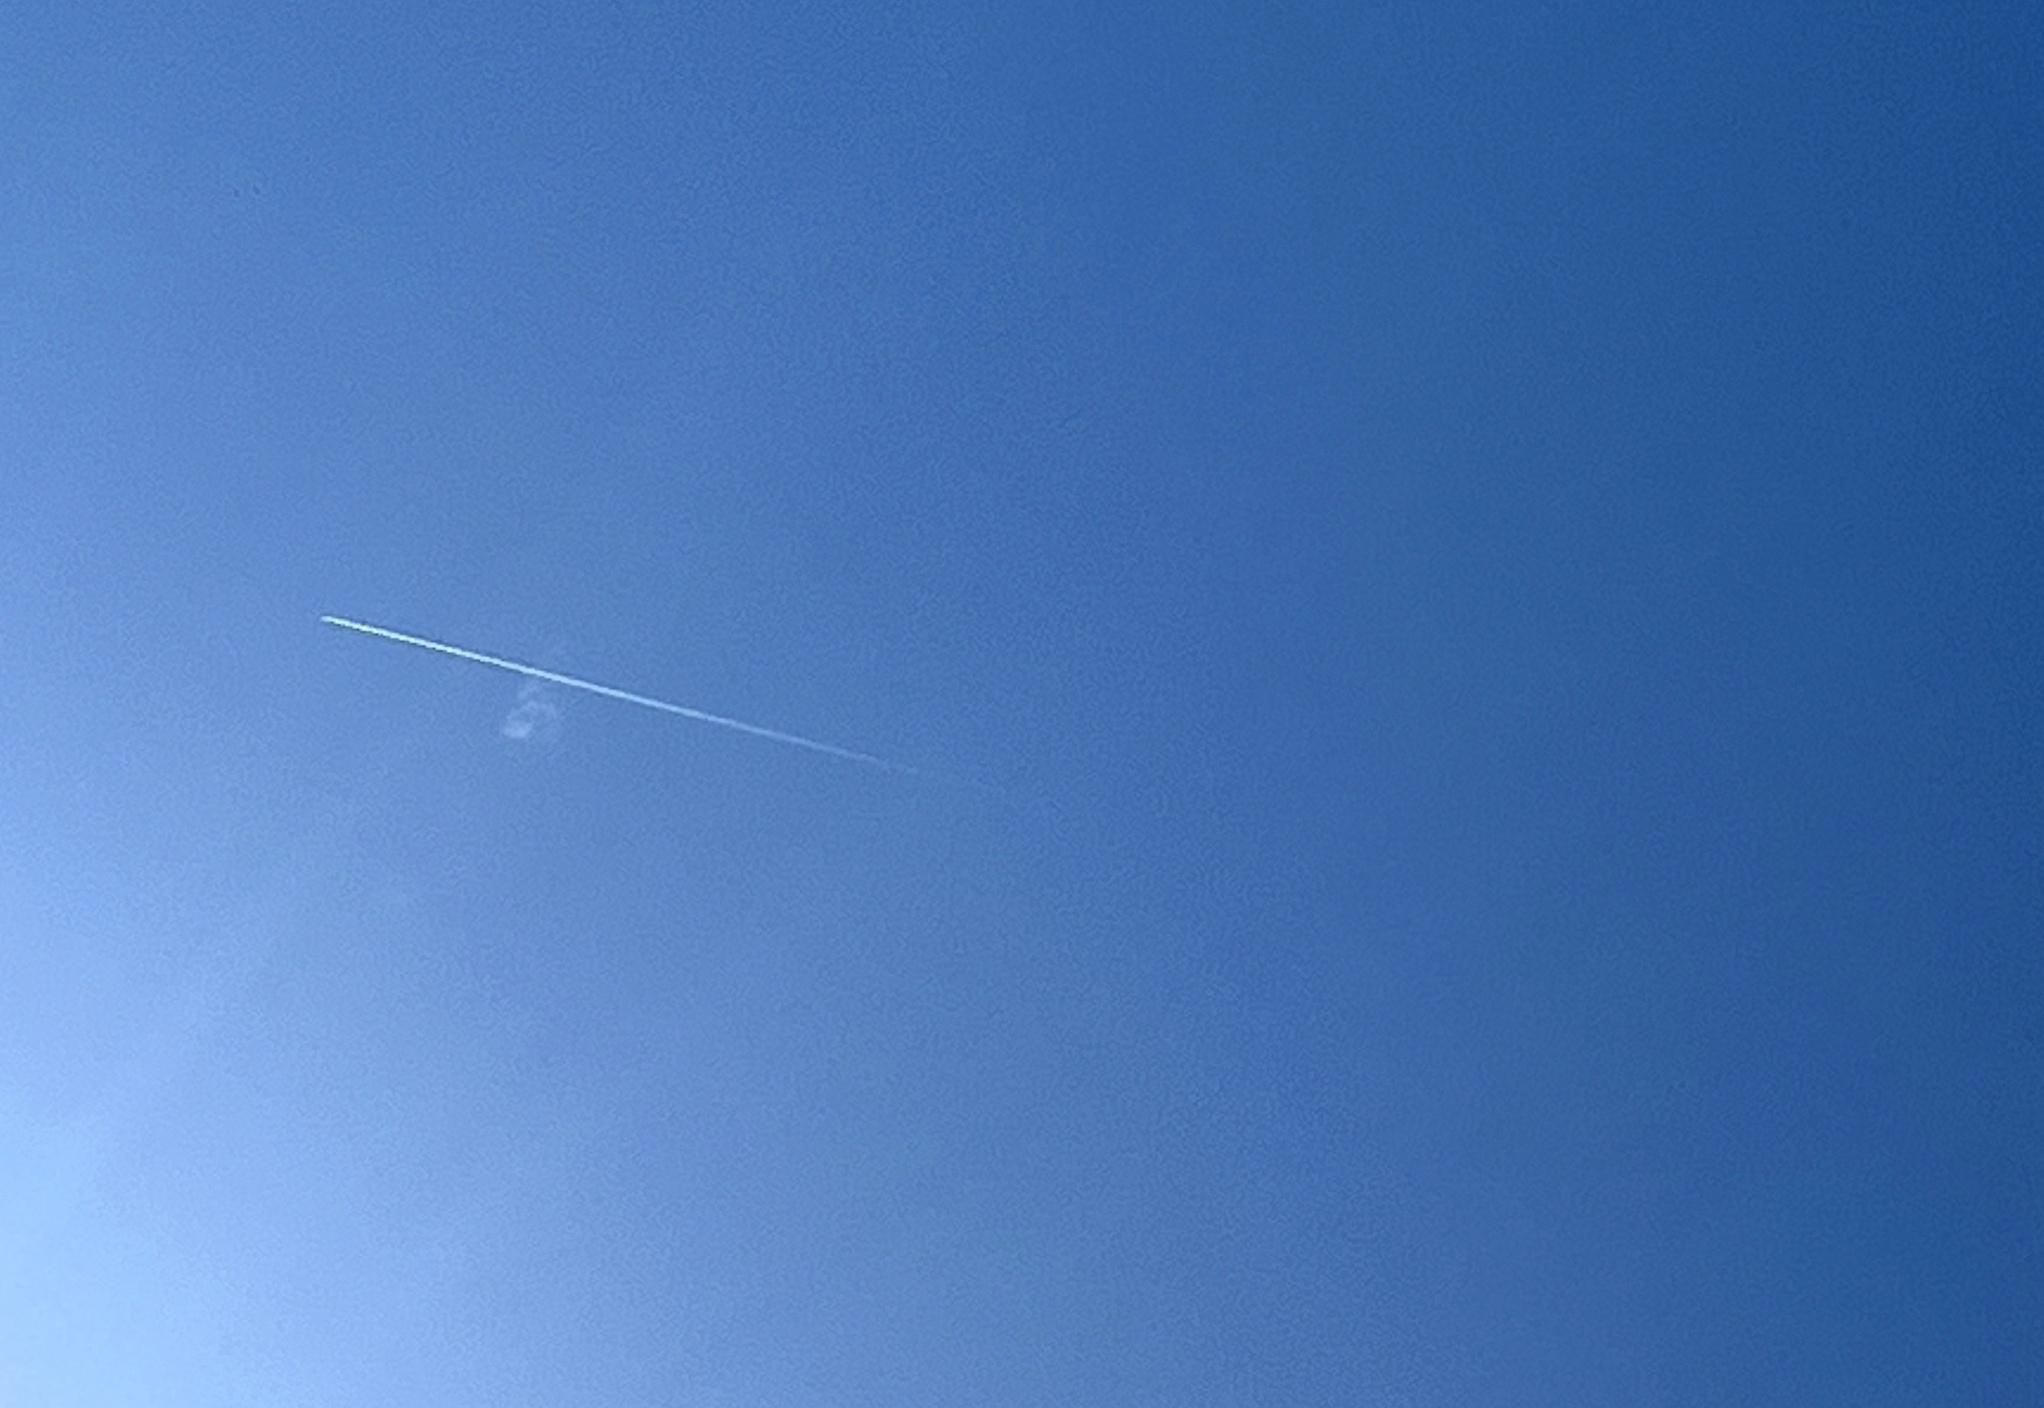Plane: (294, 590, 935, 770)
